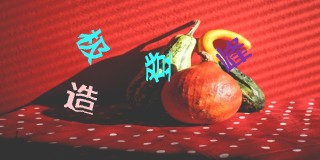峰: (216, 37, 251, 71)
极: (76, 28, 110, 64)
登: (144, 51, 172, 82)
造: (65, 81, 97, 116)
